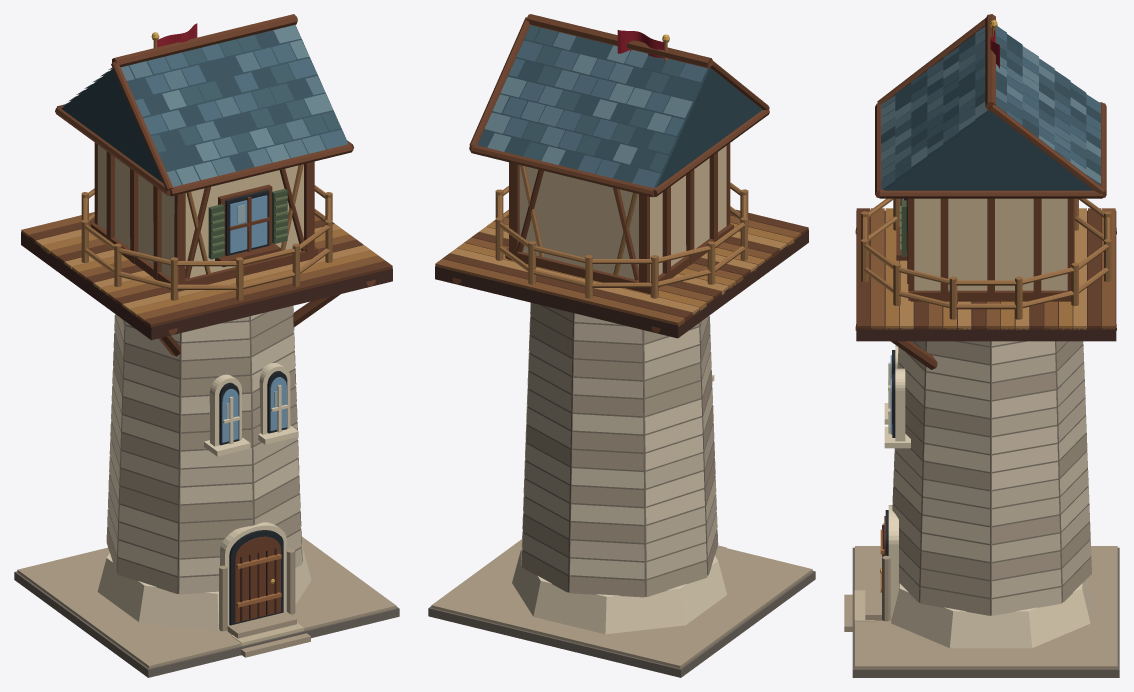
The model's file is watch-nivel-7.glb.
The picture shows the model from 3 angles, left to right: view 1: azimuth 30°, elevation 25°; view 2: azimuth 150°, elevation 25°; view 3: azimuth 270°, elevation 25°; orthographic projection.
Visible parts, largest first — view 1: Vigia 07 #70432c, Vigia 07 #b8a993, Vigia 07 #b4a38a, Vigia 07 #344d58, Vigia 07 #e1d2b8, Vigia 07 #d2c4ad, Vigia 07 #e6d7ba, Vigia 07 #dec6a0, Vigia 07 #9f7145, Vigia 07 #897e6f, Vigia 07 #4c3028, Vigia 07 #3f5a65 (+12 smaller); view 2: Vigia 07 #b8a993, Vigia 07 #d2c4ad, Vigia 07 #e1d2b8, Vigia 07 #70432c, Vigia 07 #b4a38a, Vigia 07 #344d58, Vigia 07 #dec6a0, Vigia 07 #e6d7ba, Vigia 07 #897e6f, Vigia 07 #9f7145, Vigia 07 #486574, Vigia 07 #4c3028 (+9 smaller); view 3: Vigia 07 #d2c4ad, Vigia 07 #344d58, Vigia 07 #b8a993, Vigia 07 #e1d2b8, Vigia 07 #b4a38a, Vigia 07 #70432c, Vigia 07 #dec6a0, Vigia 07 #e6d7ba, Vigia 07 #897e6f, Vigia 07 #9f7145, Vigia 07 #4c3028, Vigia 07 #486574 (+9 smaller).
Boxes of the visible parts, bbox=[...] form: Vigia 07 #70432c: bbox=[55, 14, 375, 622]; Vigia 07 #b8a993: bbox=[106, 306, 302, 593]; Vigia 07 #b4a38a: bbox=[17, 536, 396, 668]; Vigia 07 #344d58: bbox=[61, 24, 347, 184]; Vigia 07 #e1d2b8: bbox=[108, 313, 300, 576]; Vigia 07 #d2c4ad: bbox=[107, 315, 301, 594]; Vigia 07 #e6d7ba: bbox=[97, 363, 311, 630]; Vigia 07 #dec6a0: bbox=[98, 145, 303, 278]; Vigia 07 #9f7145: bbox=[81, 164, 332, 300]; Vigia 07 #897e6f: bbox=[108, 311, 300, 593]; Vigia 07 #4c3028: bbox=[21, 232, 392, 621]; Vigia 07 #3f5a65: bbox=[68, 34, 340, 152]; Vigia 07 #b8a993: bbox=[521, 302, 718, 597]; Vigia 07 #d2c4ad: bbox=[521, 313, 716, 578]; Vigia 07 #e1d2b8: bbox=[524, 303, 717, 579]; Vigia 07 #70432c: bbox=[452, 14, 769, 332]; Vigia 07 #b4a38a: bbox=[431, 539, 812, 668]; Vigia 07 #344d58: bbox=[477, 28, 762, 187]; Vigia 07 #dec6a0: bbox=[519, 146, 726, 281]; Vigia 07 #e6d7ba: bbox=[512, 374, 726, 634]; Vigia 07 #897e6f: bbox=[522, 305, 716, 596]; Vigia 07 #9f7145: bbox=[495, 165, 748, 298]; Vigia 07 #486574: bbox=[503, 40, 707, 188]; Vigia 07 #4c3028: bbox=[435, 230, 808, 338]; Vigia 07 #d2c4ad: bbox=[892, 341, 1091, 615]; Vigia 07 #344d58: bbox=[881, 31, 1100, 190]; Vigia 07 #b8a993: bbox=[892, 341, 1091, 615]; Vigia 07 #e1d2b8: bbox=[893, 341, 1091, 561]; Vigia 07 #b4a38a: bbox=[844, 523, 1117, 668]; Vigia 07 #70432c: bbox=[855, 14, 1116, 555]; Vigia 07 #dec6a0: bbox=[914, 198, 1067, 290]; Vigia 07 #e6d7ba: bbox=[884, 345, 1090, 648]; Vigia 07 #897e6f: bbox=[893, 341, 1090, 615]; Vigia 07 #9f7145: bbox=[861, 198, 1111, 319]; Vigia 07 #4c3028: bbox=[856, 210, 1116, 556]; Vigia 07 #486574: bbox=[881, 26, 1100, 189].
Bounding box in the file's own units: 4.9 × 10.71 × 4.66.
